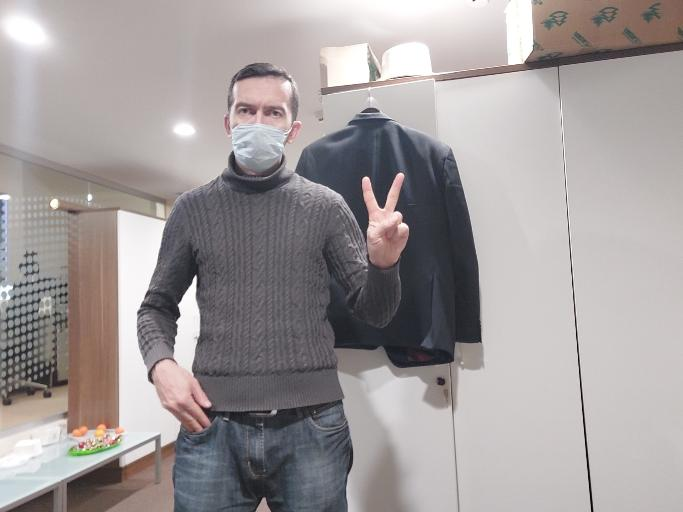no_gesture: (148, 360, 214, 434)
peace: (358, 169, 410, 266)
